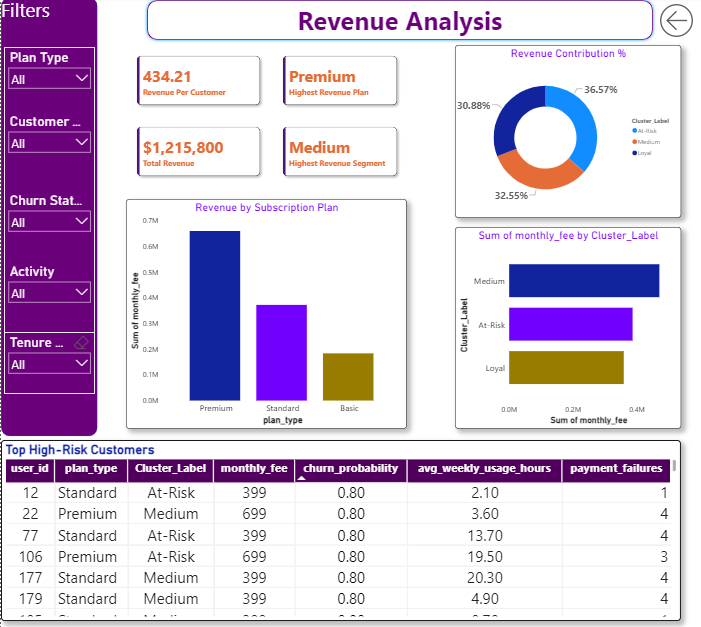

The page's visual inventory and layout, read from the dashboard file:
{"tool":"powerbi","page":{"name":"Revenue Analysis","canvas":[1550,1400],"ordinal":4},"visuals":[{"type":"cardVisual","fields":{"Data":["customer_analytics_final.Highest Revenue Segment"]},"box":[600.3,263.6,301.3,157.3],"z":0},{"type":"cardVisual","fields":{"Data":["customer_analytics_final.Highest Revenue Plan"]},"box":[600.3,106.3,301.3,157.3],"z":1000},{"type":"slicer","fields":{"Values":["customer_analytics_final.plan_type"]},"box":[5.8,110.8,202,129.2],"z":1000,"group":"g1"},{"type":"cardVisual","fields":{"Data":["customer_analytics_final.Revenue Per Customer"]},"box":[276.9,106.3,321.2,157.3],"z":2000},{"type":"slicer","fields":{"Values":["customer_analytics_final.Cluster_Label"]},"box":[5.8,252.7,201.6,121.6],"z":2000,"group":"g1"},{"type":"cardVisual","fields":{"Data":["customer_analytics_final.Total Revenue"]},"box":[276.9,263.6,321.2,157.3],"z":3000},{"type":"slicer","fields":{"Values":["customer_analytics_final.predicted_churn"]},"box":[5.8,427.5,201.6,129.2],"z":3000,"group":"g1"},{"type":"columnChart","title":"Revenue by Subscription Plan","fields":{"Category":["customer_analytics_final.plan_type"],"Y":["Sum(customer_analytics_final.monthly_fee)"]},"box":[276.9,447.5,622.5,509.5],"z":4000},{"type":"slicer","fields":{"Values":["customer_analytics_final.avg_weekly_usage_hours"]},"box":[5.8,584.5,201.6,121.6],"z":4000,"group":"g1"},{"type":"clusteredBarChart","fields":{"Category":["customer_analytics_final.Cluster_Label"],"Y":["Sum(customer_analytics_final.monthly_fee)"]},"box":[1005.7,509.5,500.6,447.5],"z":5000},{"type":"slicer","fields":{"Values":["customer_analytics_final.tenure_months"]},"box":[5.8,741.6,201.6,136.8],"z":5000,"group":"g1"},{"type":"donutChart","title":"Revenue Contribution %","fields":{"Category":["customer_analytics_final.Cluster_Label"],"Y":["customer_analytics_final.Overall Churn Rate"]},"box":[1005.7,106.3,500.6,383.2],"z":6000},{"type":"tableEx","title":"Top High-Risk Customers","fields":{"Values":["customer_analytics_final.user_id","customer_analytics_final.plan_type","customer_analytics_final.Cluster_Label","customer_analytics_final.monthly_fee","customer_analytics_final.churn_probability","customer_analytics_final.avg_weekly_usage_hours","customer_analytics_final.payment_failures"]},"box":[0,981.3,1506.3,400.9],"z":7000},{"type":"shape","box":[0,0,213.6,973.1],"z":8000},{"type":"group","id":"g1","title":"Group 1","box":[5.8,110.8,202,769.2],"z":9000},{"type":"shape","box":[316.8,0,1134.2,101.9],"z":10000},{"type":"actionButton","box":[1450.9,6.6,99.7,90.8],"z":10001}]}

Visuals, with their boxes in screenshot pixels (x1, y1, x2, y2), scaled from the page's 1550x1400 canvas onto the 701x627 screenshot:
cardVisual - customer_analytics_final.Highest Revenue Segment: (left=271, top=118, right=408, bottom=189)
cardVisual - customer_analytics_final.Highest Revenue Plan: (left=271, top=48, right=408, bottom=118)
slicer - customer_analytics_final.plan_type: (left=3, top=50, right=94, bottom=107)
cardVisual - customer_analytics_final.Revenue Per Customer: (left=125, top=48, right=270, bottom=118)
slicer - customer_analytics_final.Cluster_Label: (left=3, top=113, right=94, bottom=168)
cardVisual - customer_analytics_final.Total Revenue: (left=125, top=118, right=270, bottom=189)
slicer - customer_analytics_final.predicted_churn: (left=3, top=191, right=94, bottom=249)
"Revenue by Subscription Plan" columnChart: (left=125, top=200, right=407, bottom=429)
slicer - customer_analytics_final.avg_weekly_usage_hours: (left=3, top=262, right=94, bottom=316)
clusteredBarChart - customer_analytics_final.Cluster_Label x Sum(customer_analytics_final.monthly_fee): (left=455, top=228, right=681, bottom=429)
slicer - customer_analytics_final.tenure_months: (left=3, top=332, right=94, bottom=393)
"Revenue Contribution %" donutChart: (left=455, top=48, right=681, bottom=219)
"Top High-Risk Customers" tableEx: (left=0, top=439, right=681, bottom=619)
shape: (left=0, top=0, right=97, bottom=436)
"Group 1" group: (left=3, top=50, right=94, bottom=394)
shape: (left=143, top=0, right=656, bottom=46)
actionButton: (left=656, top=3, right=700, bottom=44)
